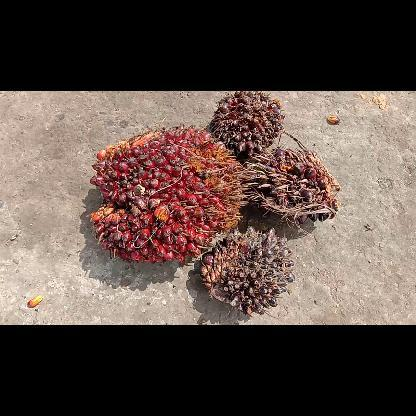TBS abnormal: (199, 227, 295, 315), (238, 146, 343, 224), (210, 90, 286, 156)
TBS masak: (84, 123, 244, 265)
